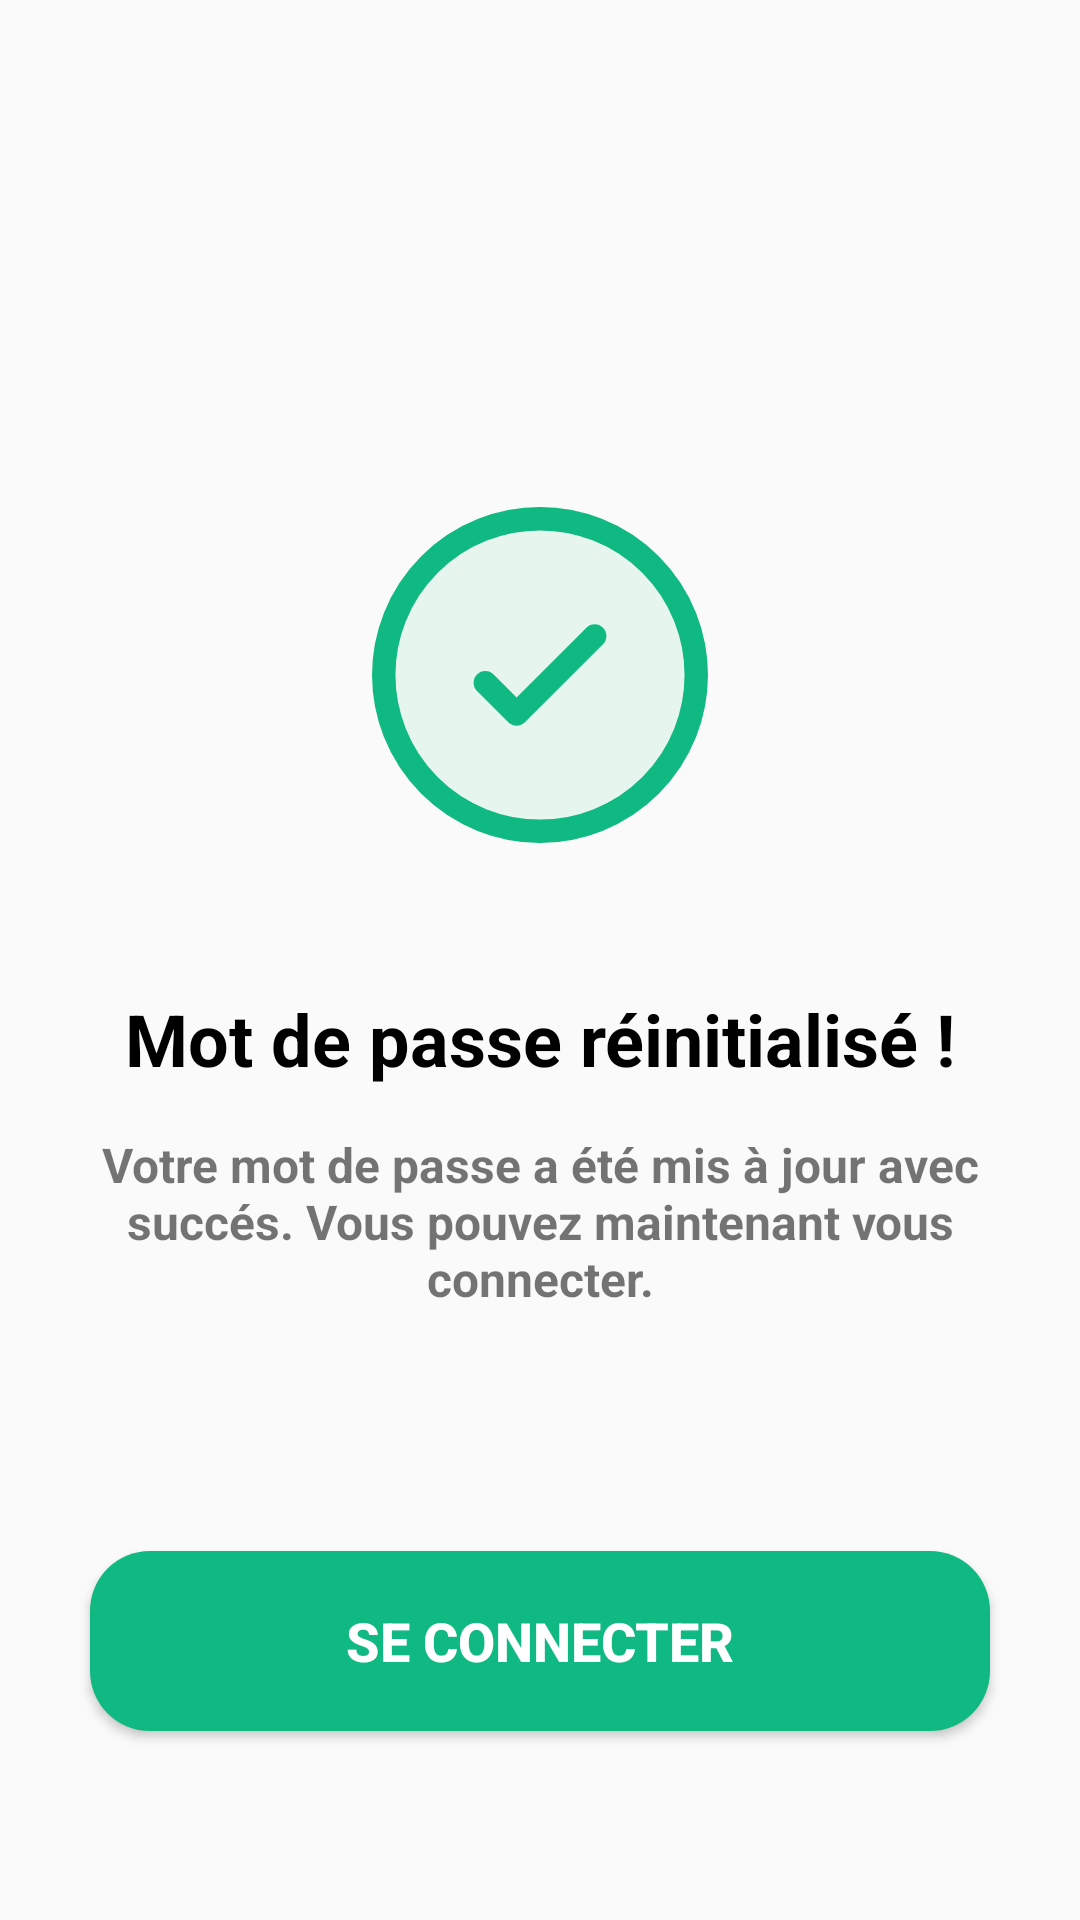

Icon bounding boxes for this 1080 × 1920 phone screenshot, format (x1, y1, x2, y2):
check: (372, 507, 708, 843)
